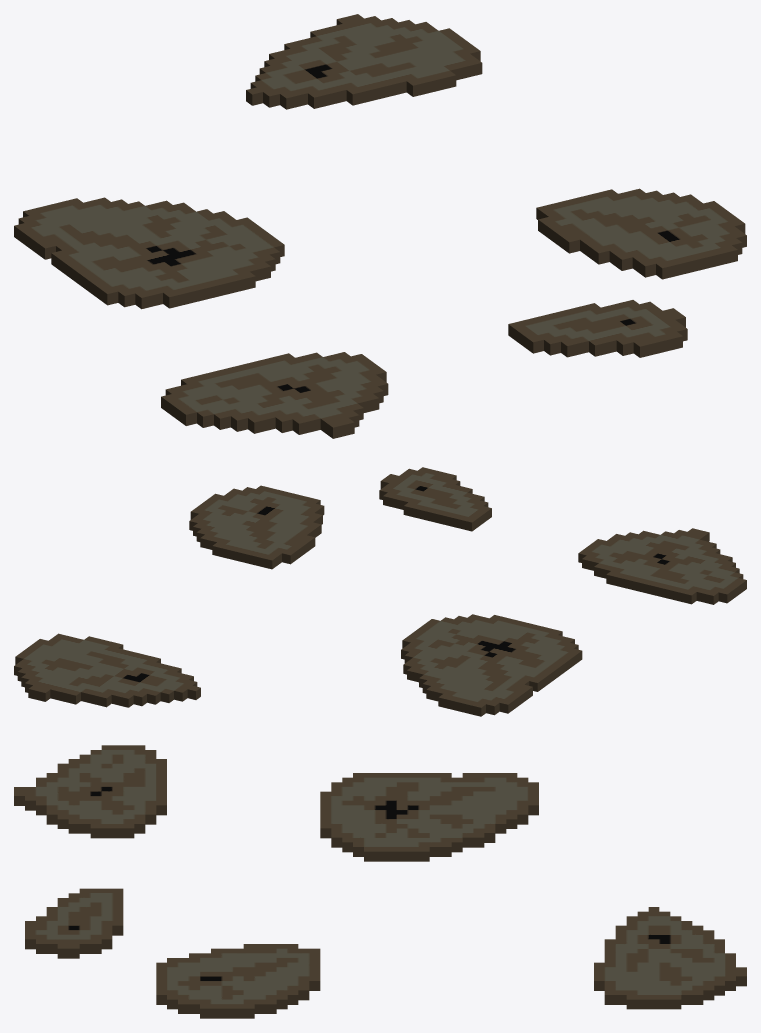
The model's file is ground_hole_6.glb.
3 views of the same model, one above another, from view 1: azimuth 30°, elevation 25°; view 2: azimuth 150°, elevation 25°; view 3: azimuth 270°, elevation 25° (orthographic). The views are drawn at different scales.
Parts seen in each view (by area): view 1: ground_hole_6; view 2: ground_hole_6; view 3: ground_hole_6.
Part boxes in pixels (<box>): ground_hole_6: <box>14,14,746,438</box>; ground_hole_6: <box>14,467,746,716</box>; ground_hole_6: <box>14,745,746,1018</box>.
Bounding box in the file's own units: 5.7 × 0.1 × 6.7.
Materials: 1 (1 with a texture image).
